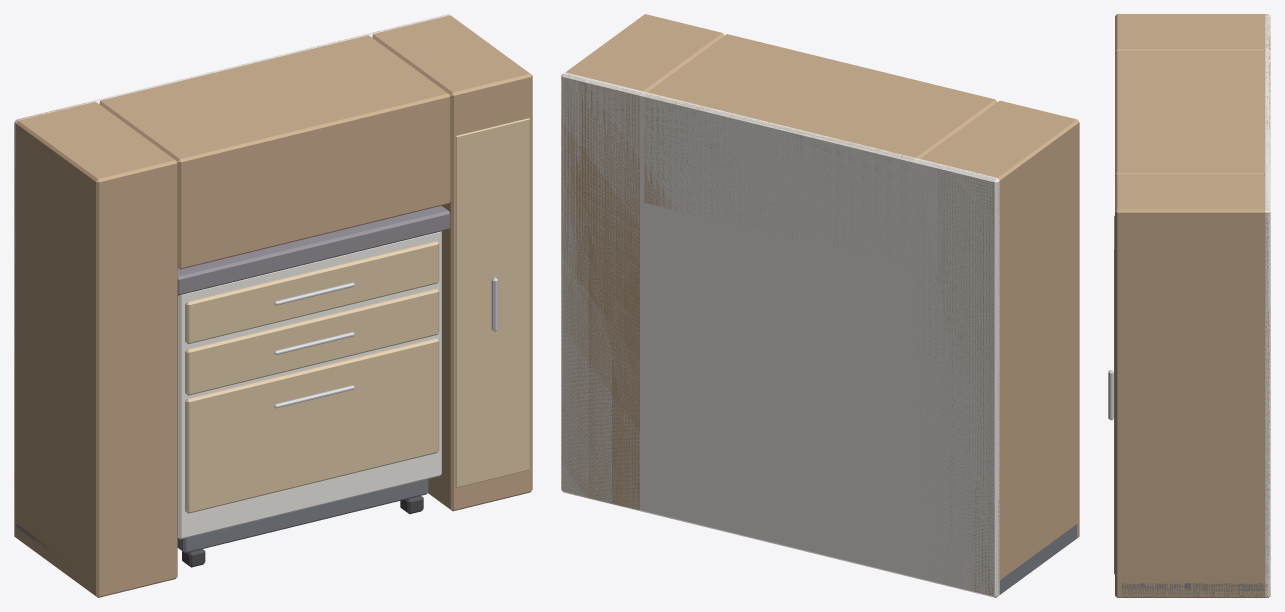
Rendered from MovableIslandWall.glb.
3 renders of one model, left to right at view 1: azimuth 30°, elevation 25°; view 2: azimuth 150°, elevation 25°; view 3: azimuth 270°, elevation 25°, orthographic. The views are drawn at different scales.
Parts seen in each view (by area): view 1: MovableIslandWall_Dock, MovableIslandWall_Island; view 2: MovableIslandWall_Dock; view 3: MovableIslandWall_Dock.
Part boxes in pixels (bbox=[...]): MovableIslandWall_Dock: bbox=[14, 14, 532, 597]; MovableIslandWall_Island: bbox=[177, 206, 450, 567]; MovableIslandWall_Dock: bbox=[561, 14, 1079, 597]; MovableIslandWall_Dock: bbox=[1108, 14, 1270, 597].
Size of the model in its own units: 2.4 by 2.2 by 0.835.
